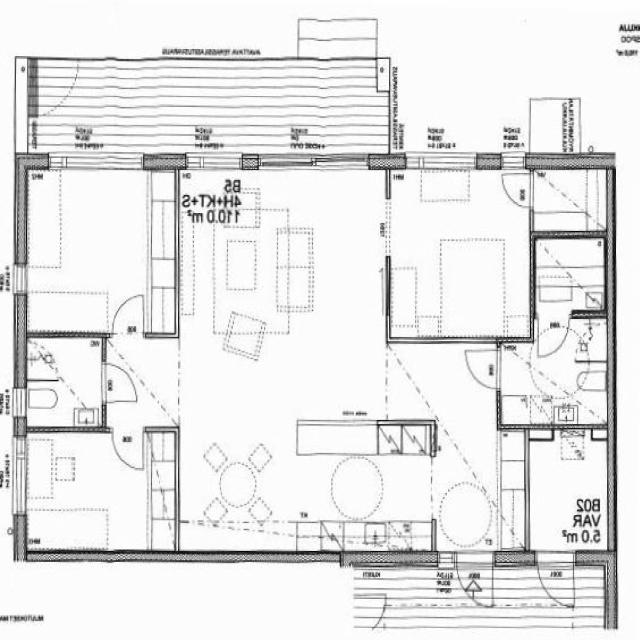door: (537, 551, 574, 605), (457, 551, 493, 604), (538, 310, 570, 355), (465, 350, 501, 388), (103, 364, 137, 401), (113, 296, 143, 337), (113, 428, 143, 468), (502, 174, 534, 206)
